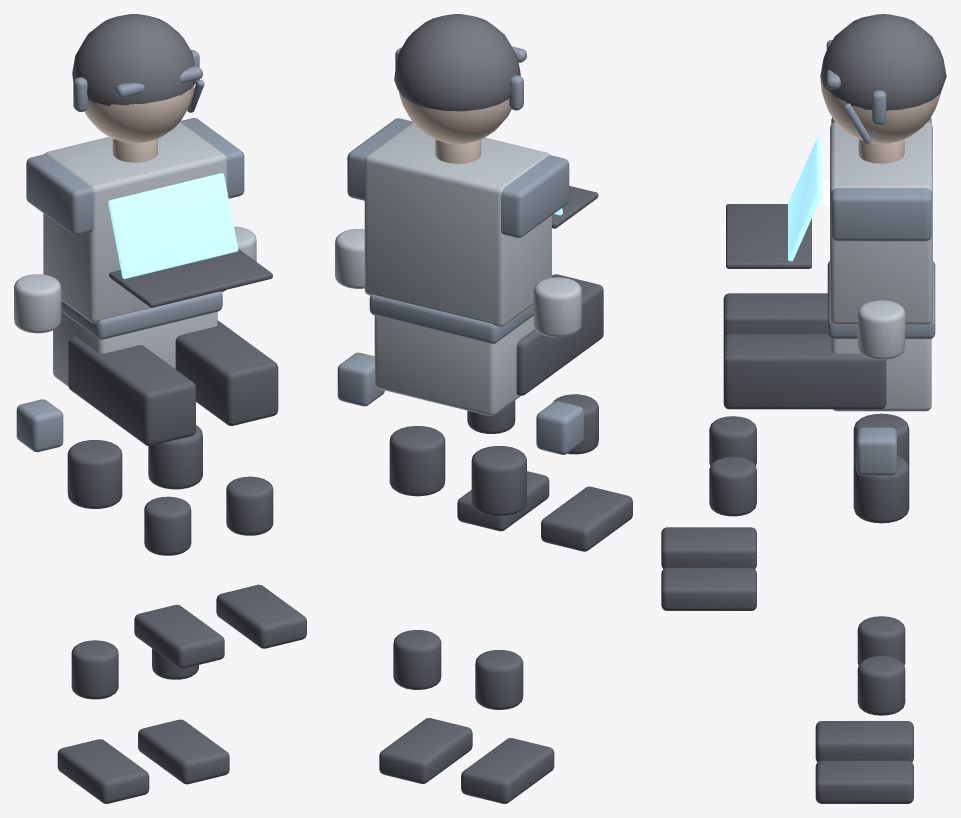
Rendered from avatar.glb.
3 renders of one model, left to right at view 1: azimuth 30°, elevation 25°; view 2: azimuth 150°, elevation 25°; view 3: azimuth 270°, elevation 25°, orthographic.
Visible parts, largest first — view 1: Torso, Tablet_Screen, Seated_Thigh_-1, Hair, Seated_Thigh_1, Shoulders, Tablet_Back, LegL_Shoe, LegR_Shoe, Seated_Foot_1, Seated_Foot_-1, Pelvis (+13 smaller); view 2: Torso, Pelvis, Hair, Shoulders, Seated_Thigh_-1, LegL_Shoe, LegR_Shoe, Seated_Foot_-1, LegR_Thigh, LegL_Thigh, Belt, Head (+11 smaller); view 3: Torso, Seated_Thigh_1, Hair, Shoulders, Tablet_Back, LegR_Shoe, Seated_Thigh_-1, Seated_Foot_1, LegL_Shoe, Seated_Foot_-1, Pelvis, LegR_Thigh (+11 smaller).
Boxes of the visible parts, x1,y1,x2,y2 form: Torso: (43, 122, 226, 322); Tablet_Screen: (108, 173, 238, 278); Seated_Thigh_-1: (68, 336, 195, 445); Hair: (72, 14, 195, 105); Seated_Thigh_1: (175, 320, 278, 425); Shoulders: (26, 118, 244, 235); Tablet_Back: (109, 248, 272, 307); LegL_Shoe: (57, 739, 149, 803); LegR_Shoe: (138, 719, 229, 784); Seated_Foot_1: (216, 584, 306, 648); Seated_Foot_-1: (134, 604, 224, 668); Pelvis: (53, 312, 217, 386); Torso: (364, 122, 551, 326); Pelvis: (374, 315, 534, 416); Hair: (394, 14, 520, 111); Shoulders: (347, 118, 569, 237); Seated_Thigh_-1: (516, 274, 603, 395); LegL_Shoe: (461, 738, 554, 803); LegR_Shoe: (379, 718, 472, 783); Seated_Foot_-1: (541, 486, 632, 551); LegR_Thigh: (389, 426, 445, 496); LegL_Thigh: (471, 446, 526, 516); Belt: (369, 295, 533, 343); Head: (399, 92, 511, 144); Torso: (830, 122, 932, 324); Seated_Thigh_1: (723, 333, 886, 409); Hair: (820, 14, 946, 110); Shoulders: (831, 117, 931, 241); Tablet_Back: (726, 204, 811, 268); LegR_Shoe: (815, 760, 913, 803); Seated_Thigh_-1: (723, 293, 827, 338); Seated_Foot_1: (661, 567, 756, 610); LegL_Shoe: (815, 721, 913, 762); Seated_Foot_-1: (661, 527, 756, 568); Pelvis: (831, 338, 931, 411); LegR_Thigh: (853, 456, 909, 523).
Size of the model in its own units: 0.576 by 1.74 by 0.596.
